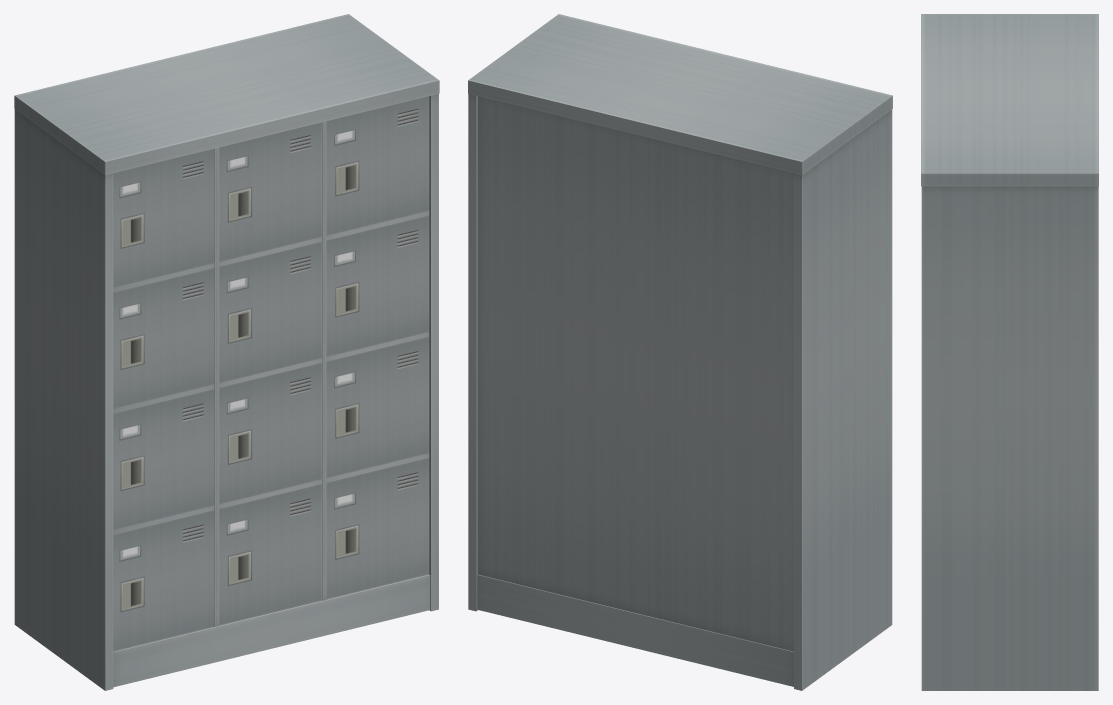
File: set_shoecupboard_a_13.fbx
3 views of the same model, side by side, from view 1: azimuth 30°, elevation 25°; view 2: azimuth 150°, elevation 25°; view 3: azimuth 270°, elevation 25° (orthographic). The views are drawn at different scales.
Visible parts, largest first — view 1: shoecupboard_a_13, door_a_13_10, door_a_13_11, door_a_13_12, door_a_13_07, door_a_13_08, door_a_13_06, door_a_13_09, door_a_13_04, door_a_13_02, door_a_13_03, door_a_13_05 (+1 smaller); view 2: shoecupboard_a_13; view 3: shoecupboard_a_13.
Part boxes in pixels (x1=…): shoecupboard_a_13: x1=14, y1=14, x2=439, y2=690; door_a_13_10: x1=326, y1=215, x2=429, y2=356; door_a_13_11: x1=326, y1=336, x2=429, y2=478; door_a_13_12: x1=326, y1=458, x2=429, y2=599; door_a_13_07: x1=219, y1=363, x2=321, y2=504; door_a_13_08: x1=219, y1=484, x2=321, y2=625; door_a_13_06: x1=219, y1=241, x2=321, y2=383; door_a_13_09: x1=326, y1=96, x2=429, y2=235; door_a_13_04: x1=113, y1=510, x2=214, y2=651; door_a_13_02: x1=113, y1=268, x2=214, y2=408; door_a_13_03: x1=113, y1=389, x2=214, y2=530; door_a_13_05: x1=219, y1=122, x2=321, y2=262; shoecupboard_a_13: x1=468, y1=14, x2=892, y2=690; shoecupboard_a_13: x1=921, y1=14, x2=1098, y2=690.
Bounding box in the file's own units: 79.39 × 120 × 37.38.
